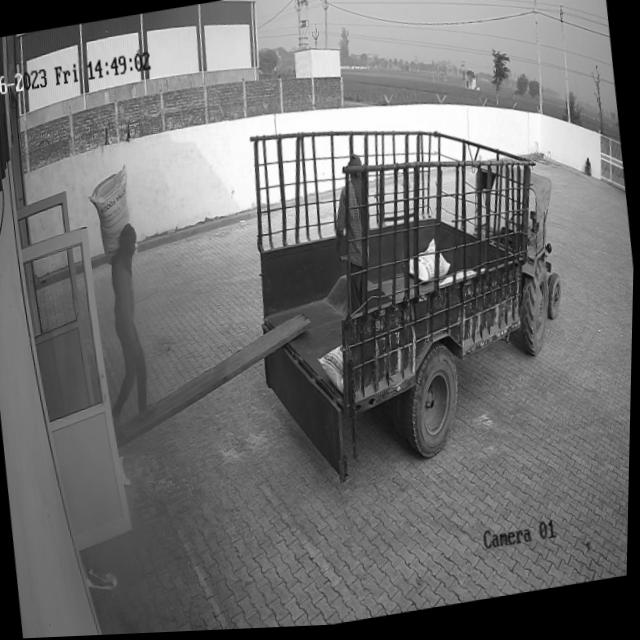sack: (85, 162, 139, 270)
